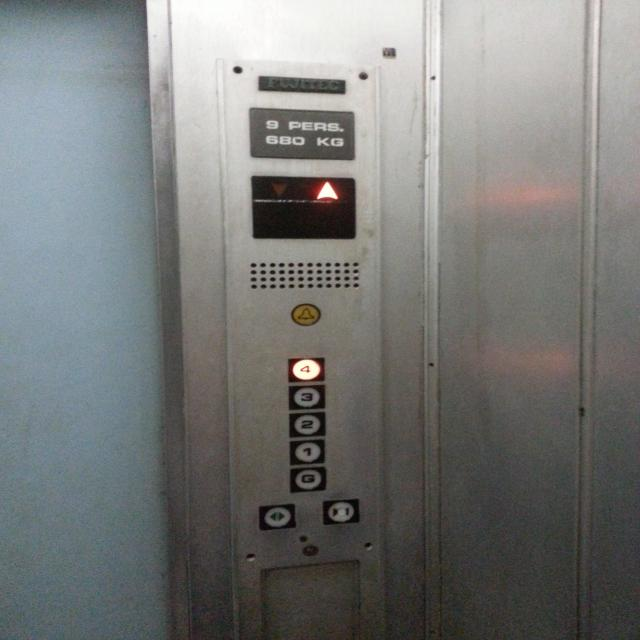1: (289, 437, 326, 466)
2: (287, 411, 327, 438)
3: (287, 384, 326, 409)
4: (287, 356, 325, 382)
G: (288, 466, 327, 492)
alarm: (291, 302, 322, 328)
close: (322, 496, 359, 526)
led: (249, 173, 356, 240)
open: (257, 503, 297, 532)
